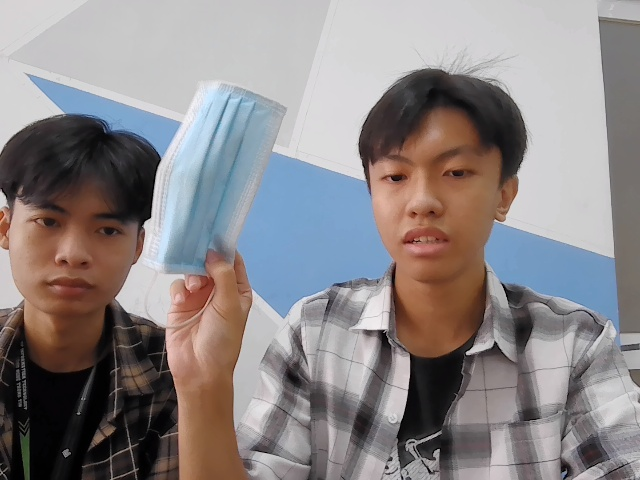human: (365, 61, 528, 280), (1, 112, 158, 314)
mask: (148, 75, 293, 281)
